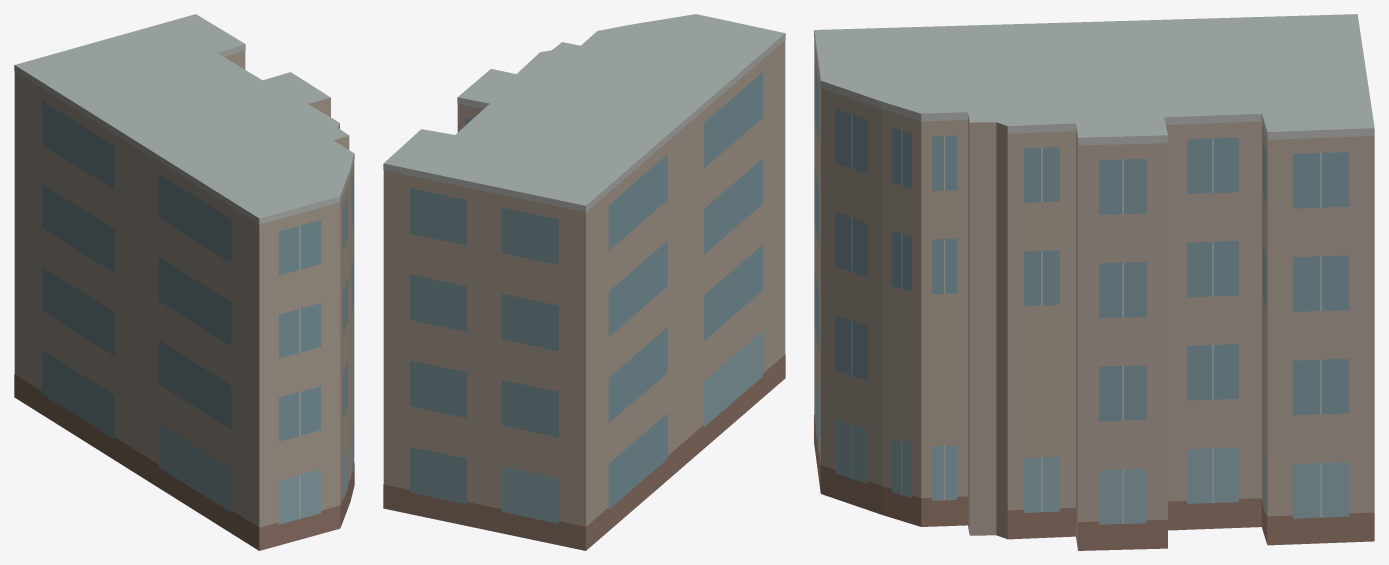
Rendered from survey-upis-32972628.glb.
3 views of the same model, side by side, from view 1: azimuth 30°, elevation 25°; view 2: azimuth 150°, elevation 25°; view 3: azimuth 270°, elevation 25° (orthographic). The views are drawn at different scales.
Parts seen in each view (by area): view 1: survey-upis-32972628.tmp; view 2: survey-upis-32972628.tmp; view 3: survey-upis-32972628.tmp.
Boxes of the visible parts, x1,y1,x2,y2 form: survey-upis-32972628.tmp: (14,14,354,550); survey-upis-32972628.tmp: (383,14,785,550); survey-upis-32972628.tmp: (814,14,1374,550).
Bounding box in the file's own units: 8.36 × 13 × 15.99.
